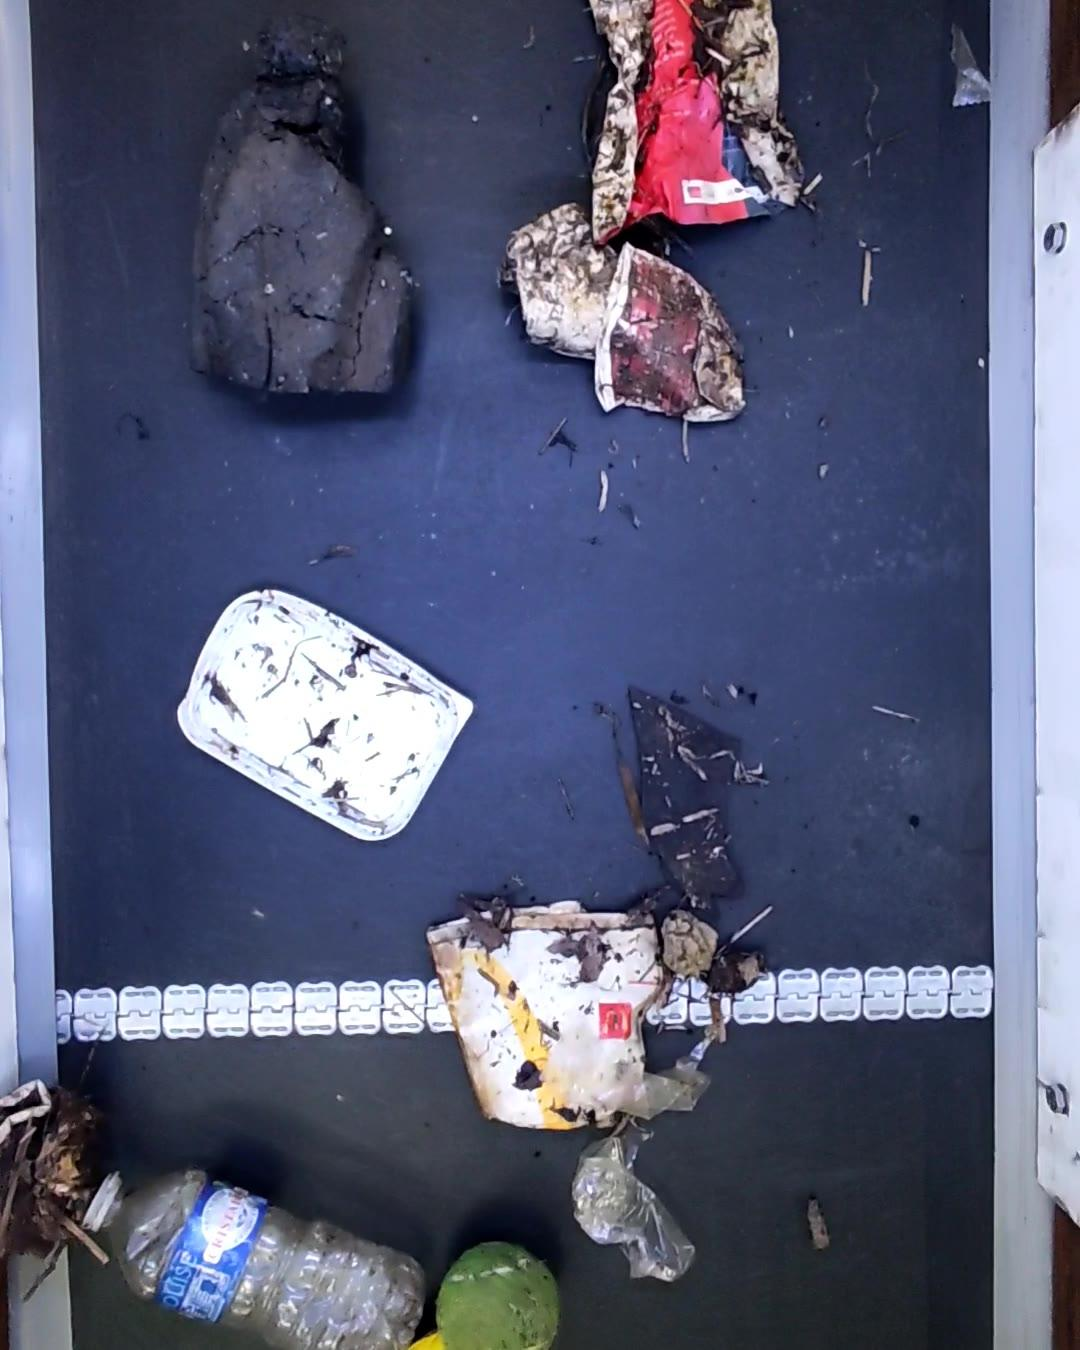Drankflessen - 1-2 liter: (80, 1165, 428, 1350)
Plastic folies of stukken daarvan 2.5- 50 cm: (566, 1126, 703, 1284), (549, 1036, 720, 1121), (946, 29, 996, 110)
Voedselverpakkingen: (173, 588, 480, 844), (587, 0, 808, 248)
